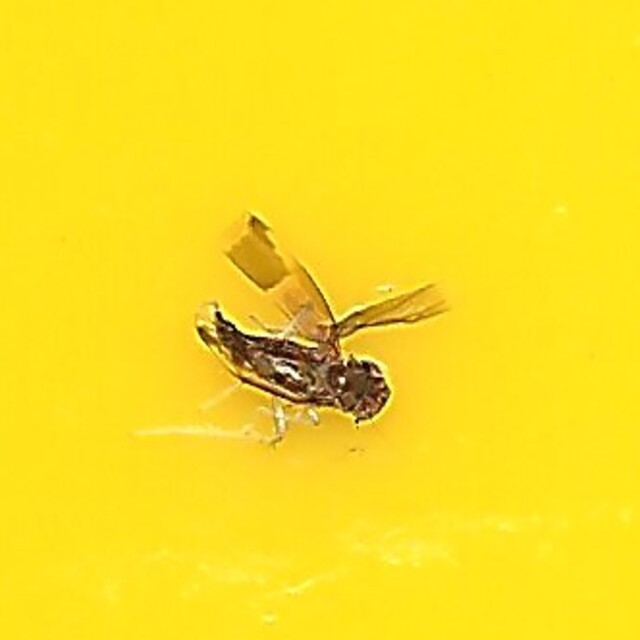Hemiptera: (193, 212, 447, 428)
